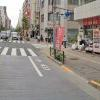crosswalks: (0, 46, 40, 56), (0, 40, 29, 43)
